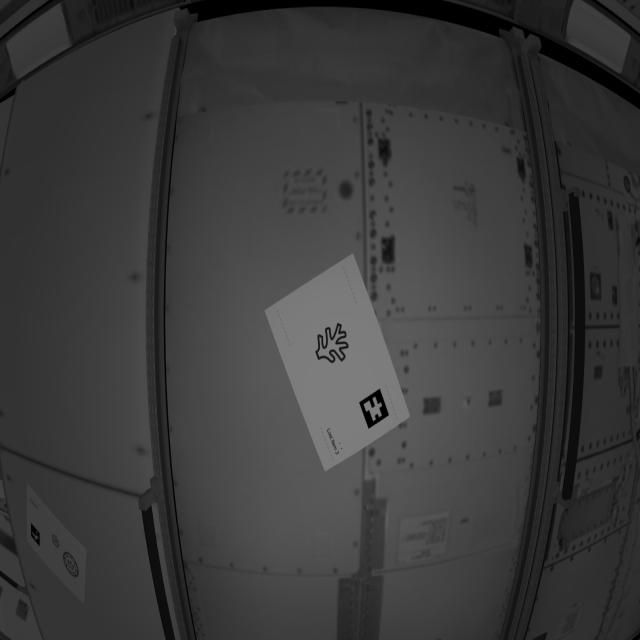coin: (59, 550, 84, 583)
coral: (312, 318, 357, 373)
